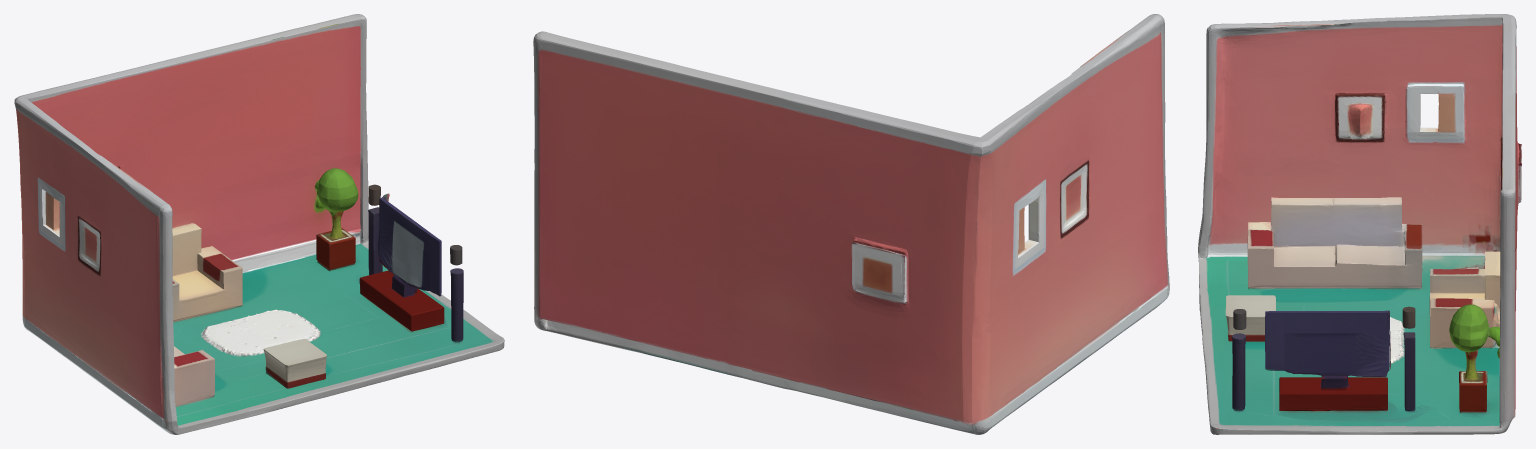
Rendered from room.glb.
3 renders of one model, left to right at view 1: azimuth 30°, elevation 25°; view 2: azimuth 150°, elevation 25°; view 3: azimuth 270°, elevation 25°, orthographic. The views are drawn at different scales.
Visible parts, largest first — view 1: world; view 2: world; view 3: world.
Part boxes in pixels (x1,y1,x2,y2): world: [14, 14, 504, 434]; world: [533, 14, 1169, 434]; world: [1198, 14, 1521, 434].
Size of the model in its own units: 1 by 0.628 by 0.7553.
1 material, 1 textured.
